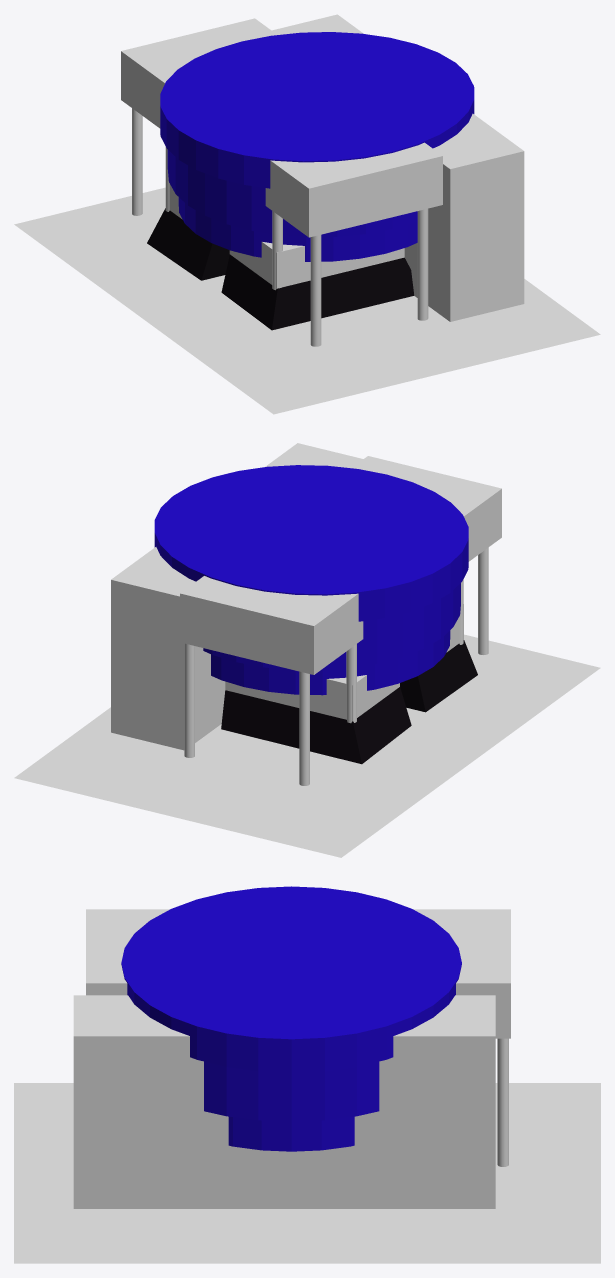
Rendered from Queso2.glb.
3 views of the same model, one above another, from view 1: azimuth 30°, elevation 25°; view 2: azimuth 150°, elevation 25°; view 3: azimuth 270°, elevation 25° (orthographic). The views are drawn at different scales.
Visible parts, largest first — view 1: Plane, Ventanal1, Cube, LabRedes, Base2, Vnetanal2, Ventanal3, Base1, Cube.002, Pilar, Pilar.005, Pilar.001 (+1 smaller); view 2: Plane, Ventanal1, LabRedes, Cube, Base1, Vnetanal2, Ventanal3, Base2, Cube.001, Pilar.001, Pilar.004, Pilar (+1 smaller); view 3: Cube, Plane, Ventanal1, LabRedes, Vnetanal2, Ventanal3, Pilar.004.
Boxes of the visible parts, x1=… form: Plane: x1=14, y1=187, x2=600, y2=414; Ventanal1: x1=160, y1=32, x2=474, y2=188; Cube: x1=272, y1=14, x2=524, y2=321; LabRedes: x1=121, y1=18, x2=442, y2=237; Base2: x1=221, y1=254, x2=414, y2=330; Vnetanal2: x1=167, y1=150, x2=417, y2=237; Ventanal3: x1=178, y1=197, x2=417, y2=261; Base1: x1=147, y1=208, x2=229, y2=280; Cube.002: x1=229, y1=242, x2=404, y2=288; Pilar: x1=310, y1=235, x2=321, y2=346; Pilar.005: x1=417, y1=208, x2=428, y2=320; Pilar.001: x1=132, y1=108, x2=142, y2=215; Plane: x1=14, y1=634, x2=600, y2=857; Ventanal1: x1=154, y1=465, x2=468, y2=621; LabRedes: x1=180, y1=456, x2=501, y2=674; Cube: x1=111, y1=443, x2=363, y2=750; Base1: x1=221, y1=687, x2=411, y2=764; Vnetanal2: x1=203, y1=583, x2=460, y2=670; Ventanal3: x1=211, y1=630, x2=450, y2=695; Base2: x1=400, y1=640, x2=477, y2=712; Cube.001: x1=225, y1=675, x2=399, y2=721; Pilar.001: x1=299, y1=671, x2=309, y2=785; Pilar.004: x1=184, y1=643, x2=194, y2=757; Pilar: x1=478, y1=547, x2=488, y2=654; Cube: x1=73, y1=995, x2=495, y2=1208; Plane: x1=14, y1=1083, x2=600, y2=1263; Ventanal1: x1=121, y1=886, x2=461, y2=1072; LabRedes: x1=86, y1=909, x2=510, y2=1038; Vnetanal2: x1=204, y1=1061, x2=379, y2=1121; Ventanal3: x1=228, y1=1116, x2=354, y2=1151; Pilar.004: x1=497, y1=1038, x2=508, y2=1166.
Bounding box in the file's own units: 5.13 × 2.81 × 7.05.
